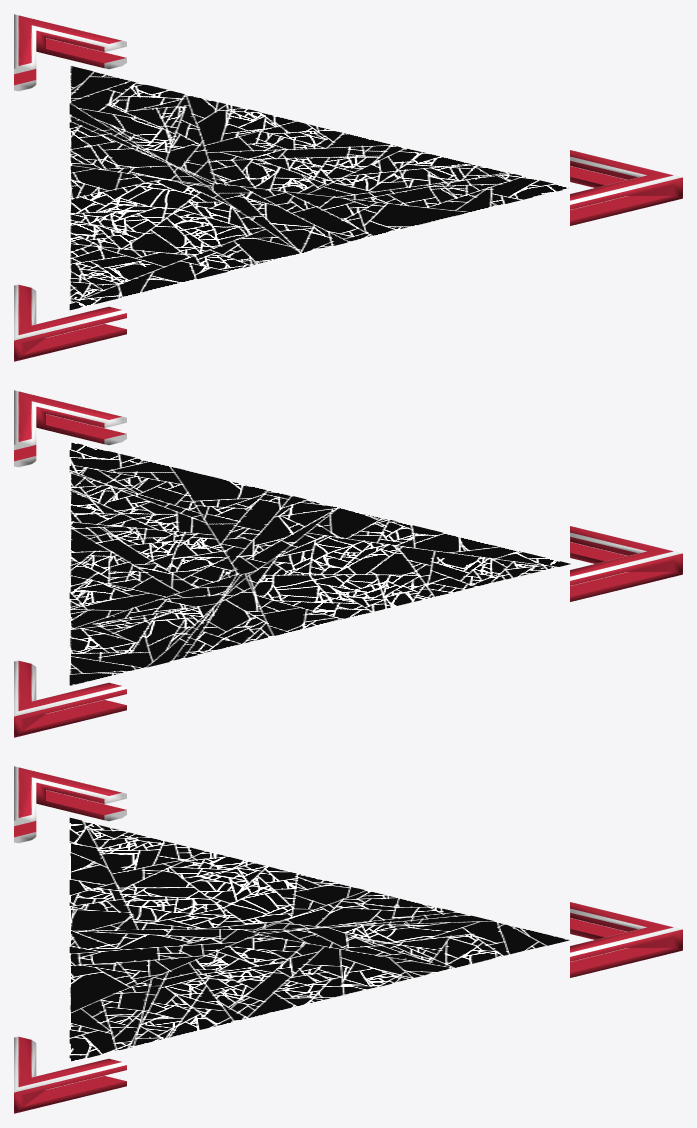
The model's file is teleport_mirror.fbx.
3 views of the same model, one above another, from view 1: azimuth 30°, elevation 25°; view 2: azimuth 150°, elevation 25°; view 3: azimuth 270°, elevation 25° (orthographic).
Visible parts, largest first — view 1: portal, portal_corner; view 2: portal, portal_corner; view 3: portal, portal_corner.
Boxes of the visible parts, x1,y1,x2,y2 form: portal: (69,65,570,310); portal_corner: (14,14,682,361); portal: (69,441,570,686); portal_corner: (14,390,682,737); portal: (69,817,570,1062); portal_corner: (14,766,682,1113).
Bounding box in the file's own units: 3.46 × 0.125 × 3.
2 materials, 2 textured.
